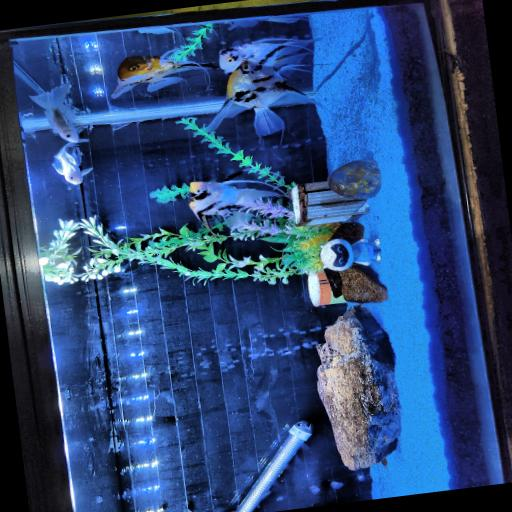Fish: (205, 61, 314, 136), (112, 49, 218, 98), (189, 180, 288, 232), (220, 38, 320, 75), (31, 84, 79, 142), (52, 143, 92, 185), (229, 15, 307, 29), (139, 27, 175, 34)
